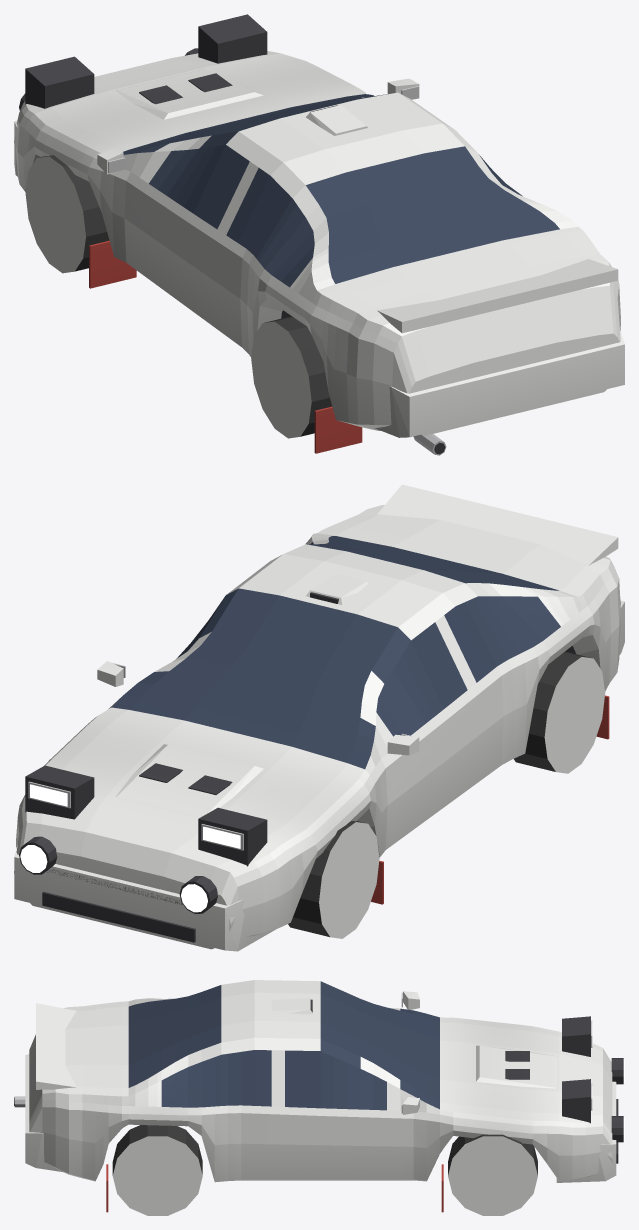
File: celica.glb
The picture shows the model from 3 angles, top to bottom: view 1: azimuth 30°, elevation 25°; view 2: azimuth 150°, elevation 25°; view 3: azimuth 270°, elevation 25°; orthographic projection. The views are drawn at different scales.
Parts seen in each view (by area): view 1: Body, Bumper_R, Wheel_RL, Wheel_FL, Spoiler, MudFlaps; view 2: Body, Bumper_F, Wheel_RL, Wheel_FL, Spoiler, LightPod, MudFlaps; view 3: Body, Wheel_RR, Wheel_FR, Spoiler, Bumper_R, Bumper_F, LightPod.
Part boxes in pixels (x1,y1,x2,y2): Body: (14, 14, 620, 435); Bumper_R: (375, 331, 624, 437); Wheel_RL: (251, 316, 332, 438); Wheel_FL: (25, 155, 109, 273); Spoiler: (377, 259, 618, 333); MudFlaps: (89, 240, 362, 453); Body: (14, 505, 620, 949); Bumper_F: (14, 845, 276, 951); Wheel_RL: (514, 651, 605, 773); Wheel_FL: (288, 821, 379, 938); Spoiler: (377, 484, 618, 565); LightPod: (19, 836, 217, 913); MudFlaps: (371, 695, 609, 904); Body: (29, 980, 612, 1182); Wheel_RR: (112, 1125, 202, 1215); Wheel_FR: (448, 1134, 537, 1215); Spoiler: (36, 1003, 76, 1089); Bumper_R: (25, 1054, 63, 1172); Bumper_F: (556, 1081, 618, 1182); LightPod: (611, 1058, 624, 1142).
Bounding box in the file's own units: 2.02 × 1.32 × 4.61.
